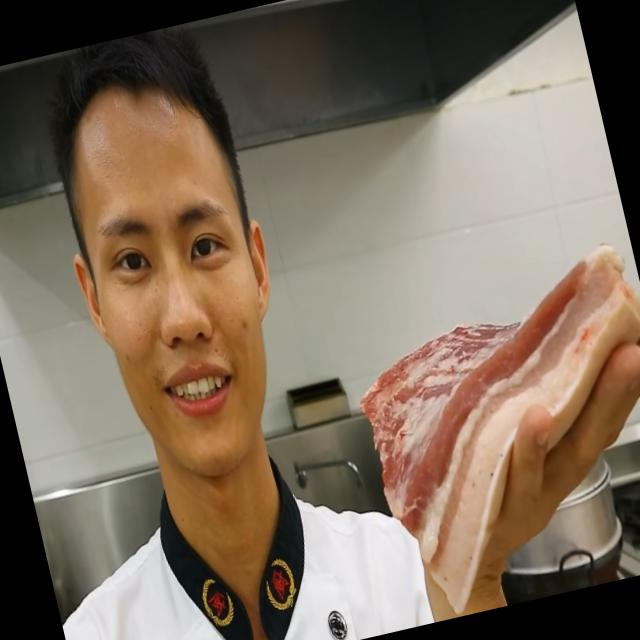--: (343, 233, 640, 581)
